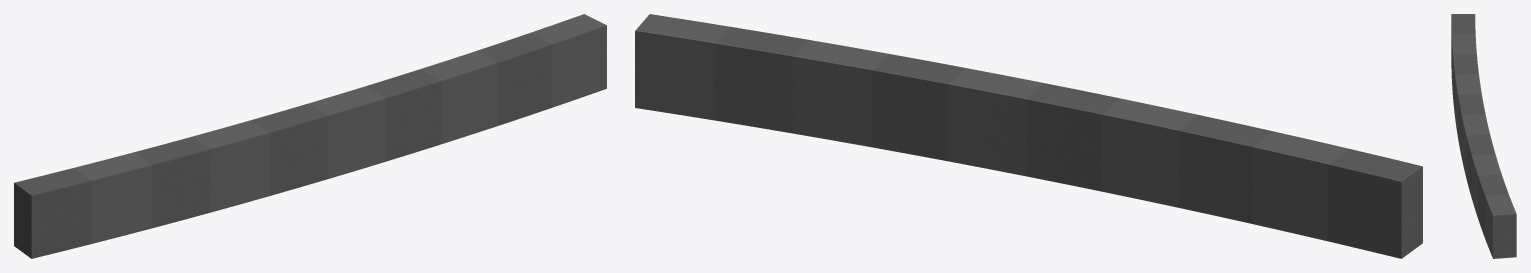
The model's file is Wall_L_10.glb.
3 renders of one model, left to right at view 1: azimuth 30°, elevation 25°; view 2: azimuth 150°, elevation 25°; view 3: azimuth 270°, elevation 25°, orthographic. The views are drawn at different scales.
Visible parts, largest first — view 1: Wall_L_10; view 2: Wall_L_10; view 3: Wall_L_10.
Part boxes in pixels (x1,y1,x2,y2): Wall_L_10: [14, 14, 606, 258]; Wall_L_10: [635, 14, 1422, 258]; Wall_L_10: [1451, 14, 1516, 258].
Bounding box in the file's own units: 9.99 × 1 × 1.37.
Materials: 1 (1 with a texture image).
